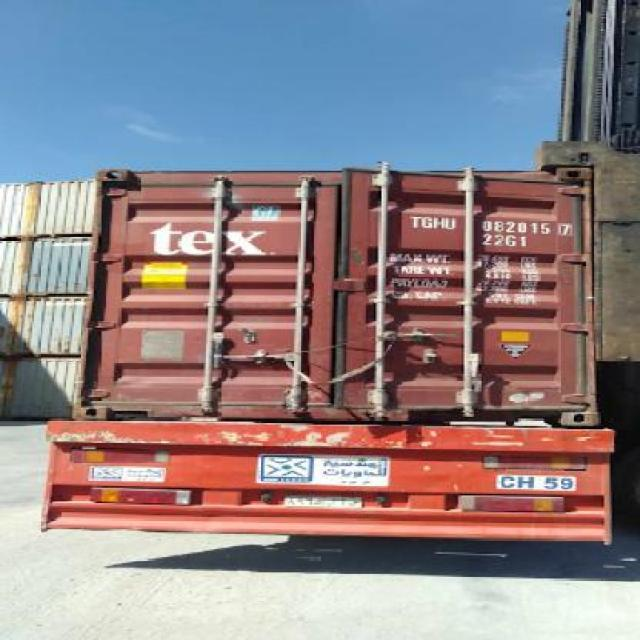ISO: (480, 231, 525, 246)
container_number: (412, 217, 572, 236)
